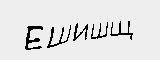Е: (22, 24, 44, 53)
И: (73, 20, 88, 46)
Ш: (47, 23, 72, 48), (88, 19, 109, 41)
Щ: (108, 19, 136, 40)
